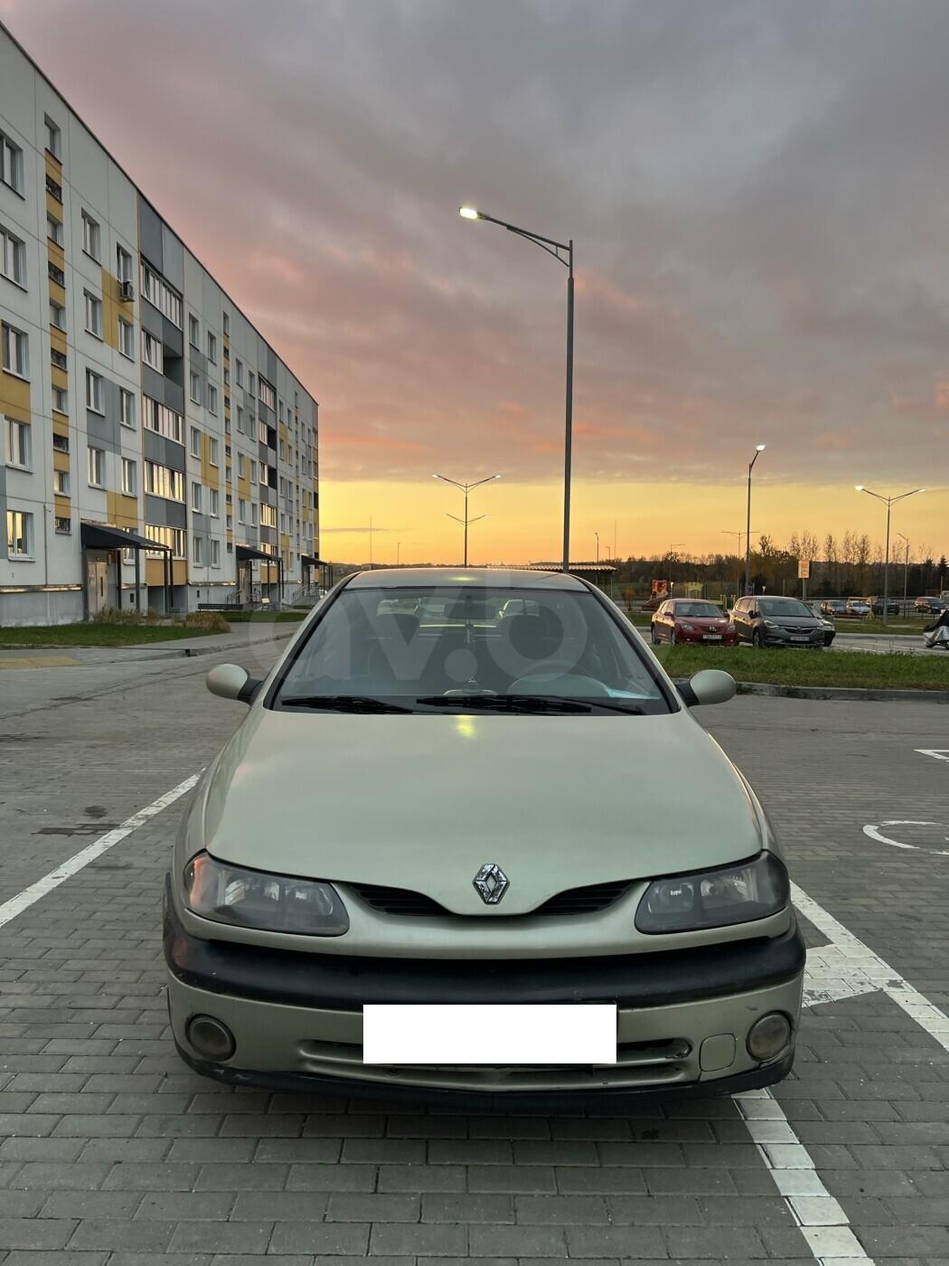Laguna_1998-2001: (152, 555, 812, 1120)
